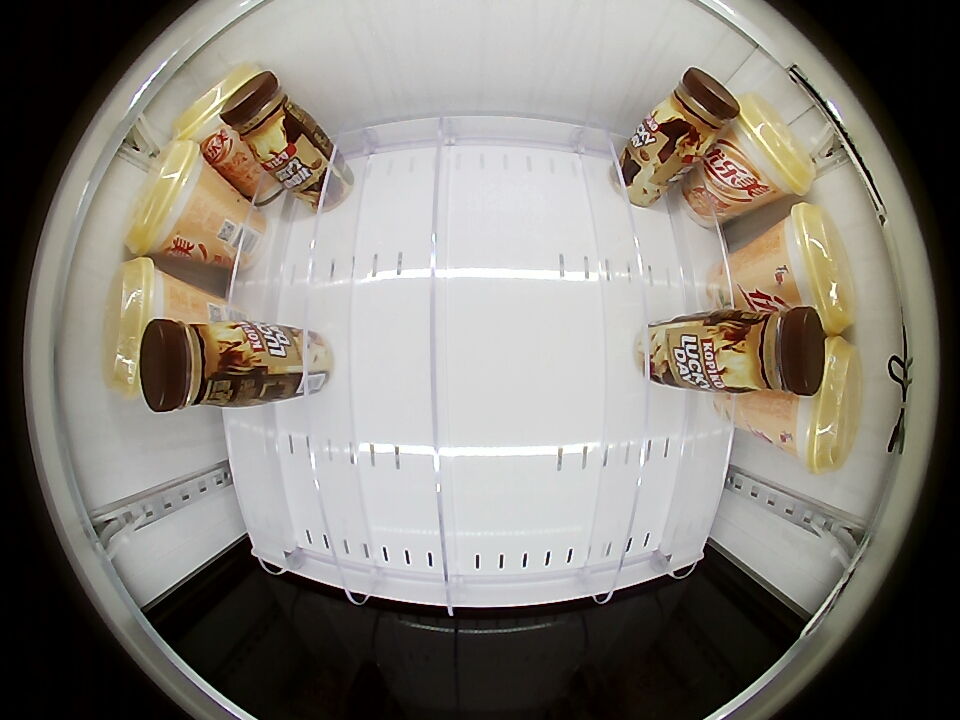lujikafei: (139, 319, 247, 413), (718, 309, 826, 395), (653, 67, 740, 154), (223, 67, 304, 156)
youlemei: (126, 138, 215, 260), (776, 202, 855, 333), (102, 257, 173, 401), (789, 338, 862, 474), (725, 92, 814, 202), (173, 67, 244, 147)
